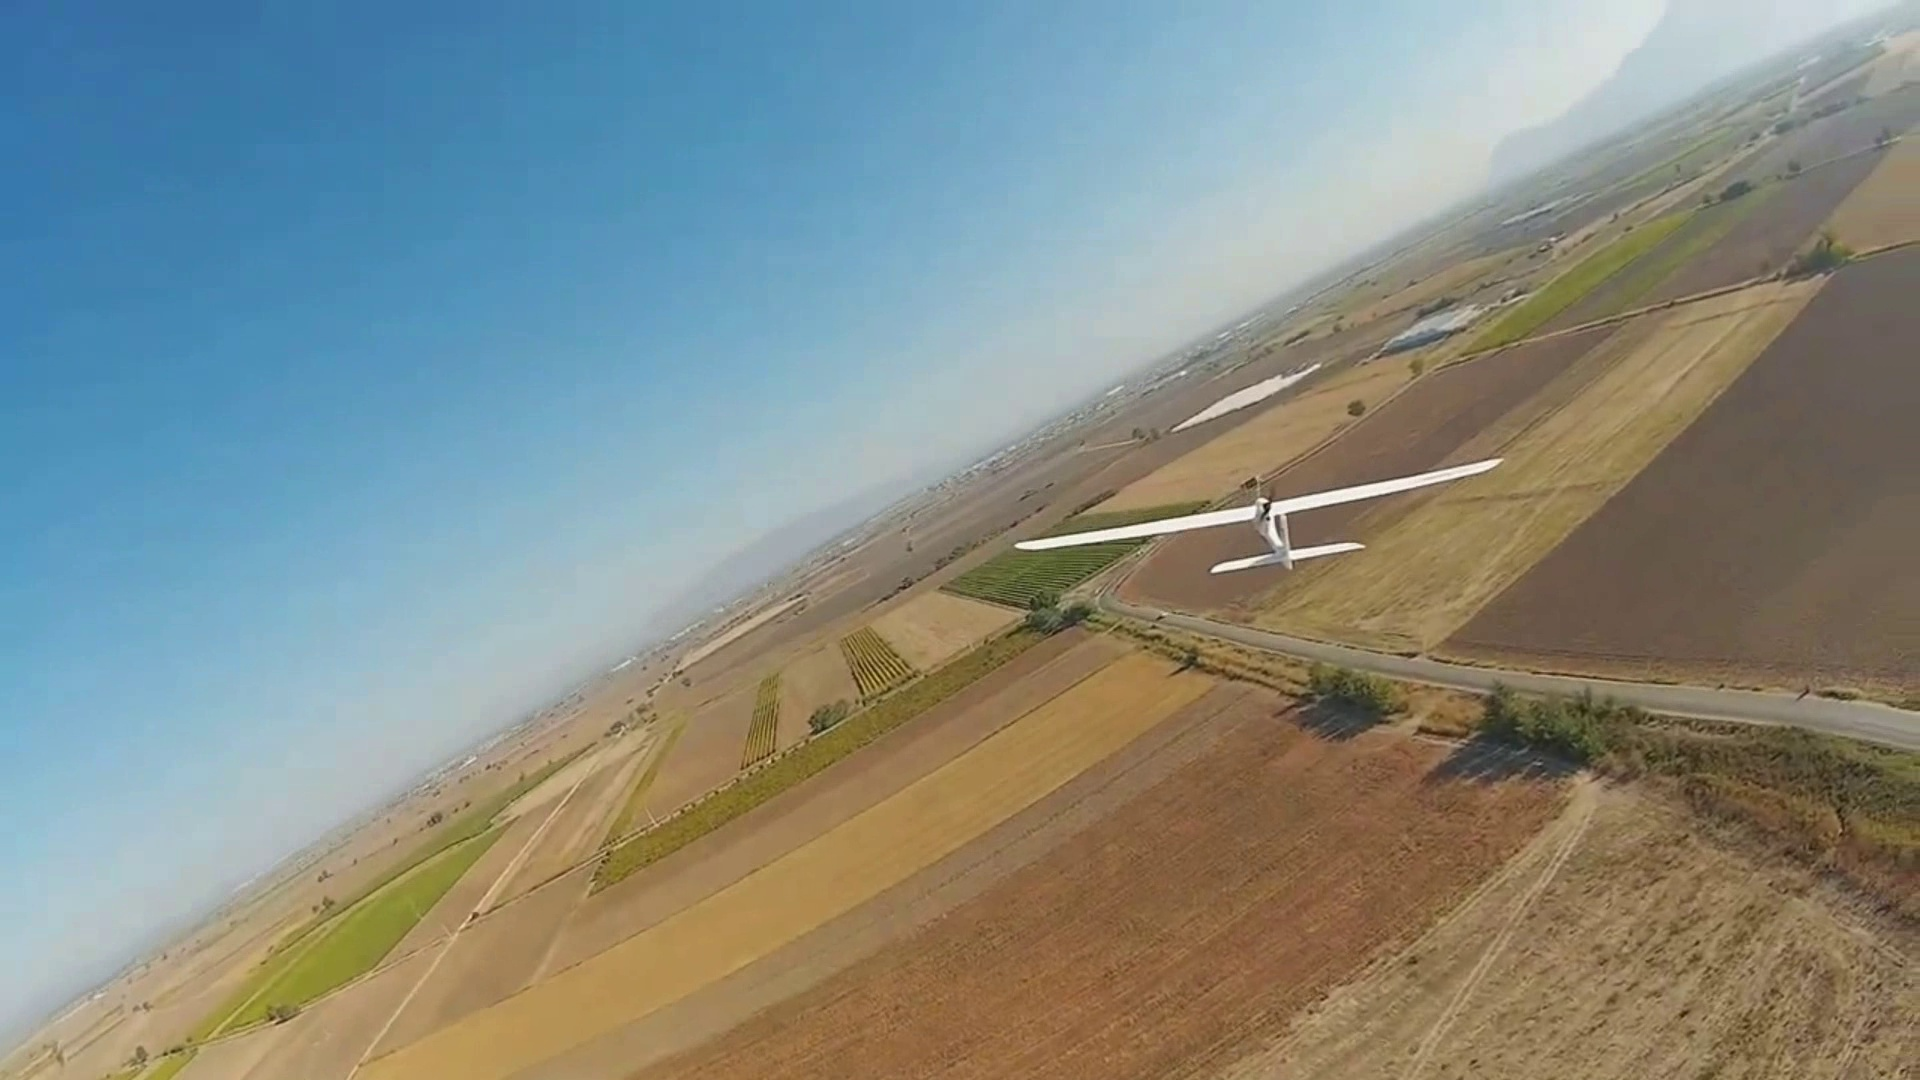airplane: (5, 39, 1920, 1069)
